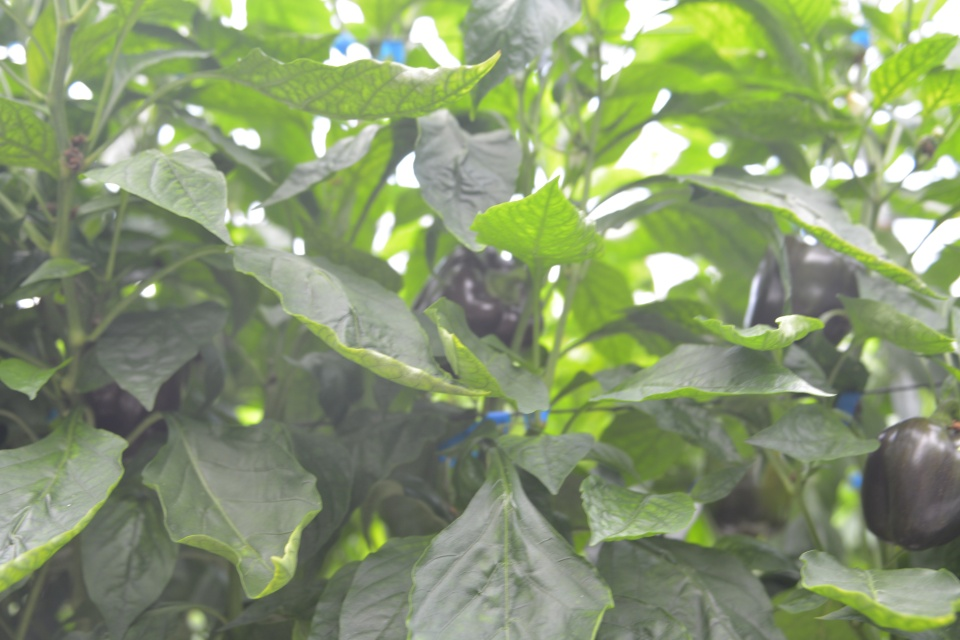fruit: (408, 243, 544, 377), (742, 228, 862, 355), (859, 411, 960, 553), (85, 379, 174, 458)
pedicle: (487, 263, 520, 304)
